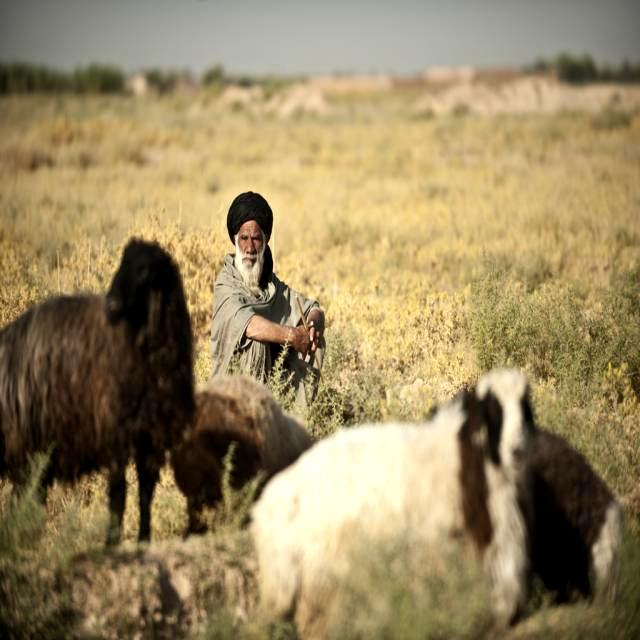sheep: (252, 370, 527, 639), (10, 237, 193, 542), (170, 375, 313, 530), (522, 428, 623, 604)
